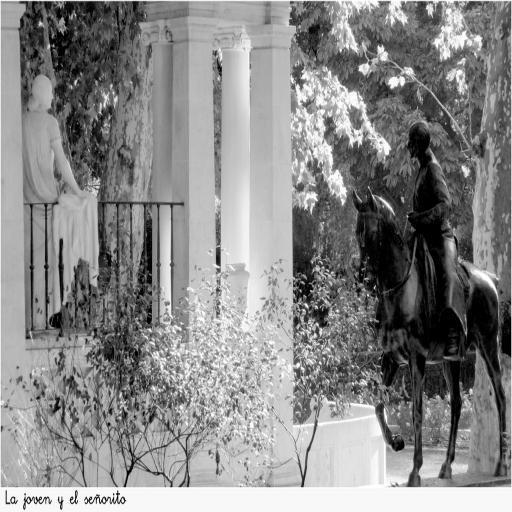horse: (353, 188, 508, 486)
